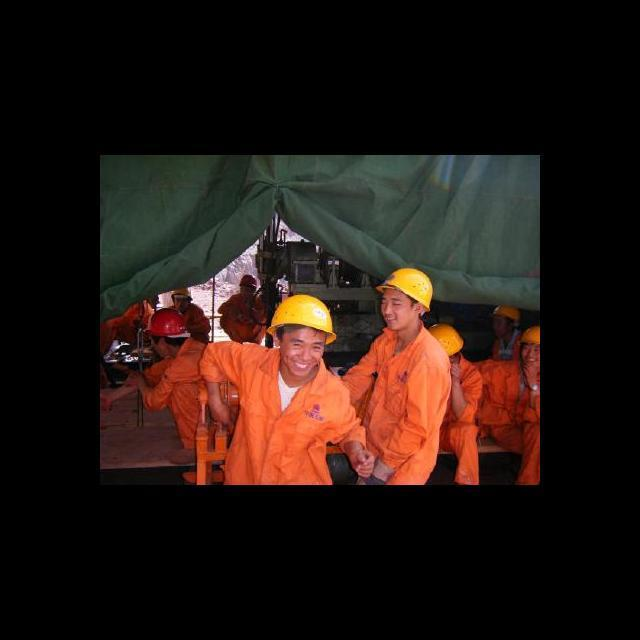helmet: (254, 285, 350, 353), (372, 260, 440, 312), (142, 298, 196, 345), (424, 317, 468, 358)
